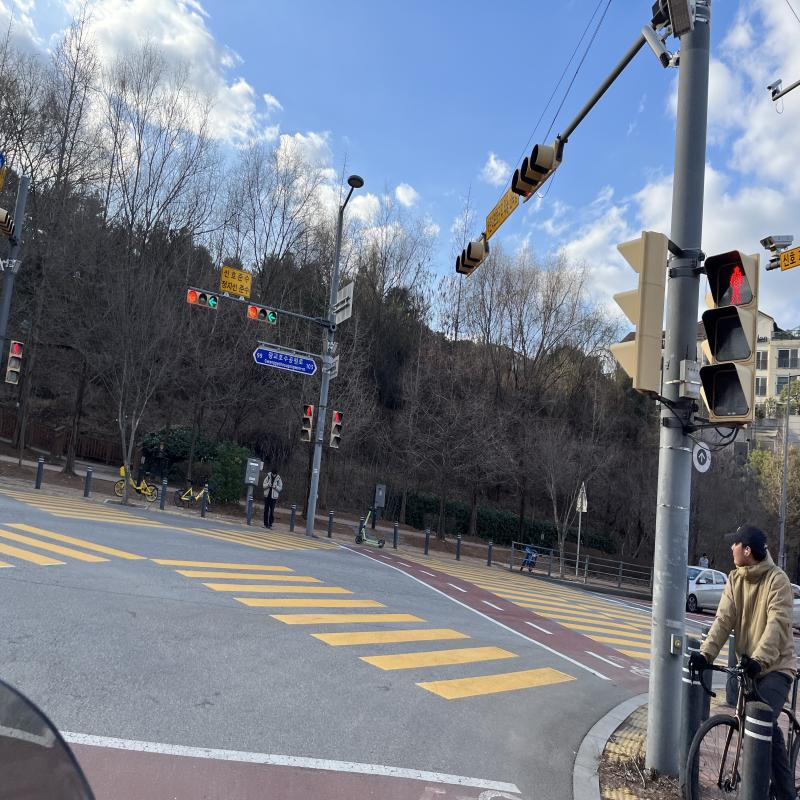left: (207, 296, 218, 309), (267, 311, 277, 324)
red: (187, 290, 198, 304), (248, 306, 258, 318)
